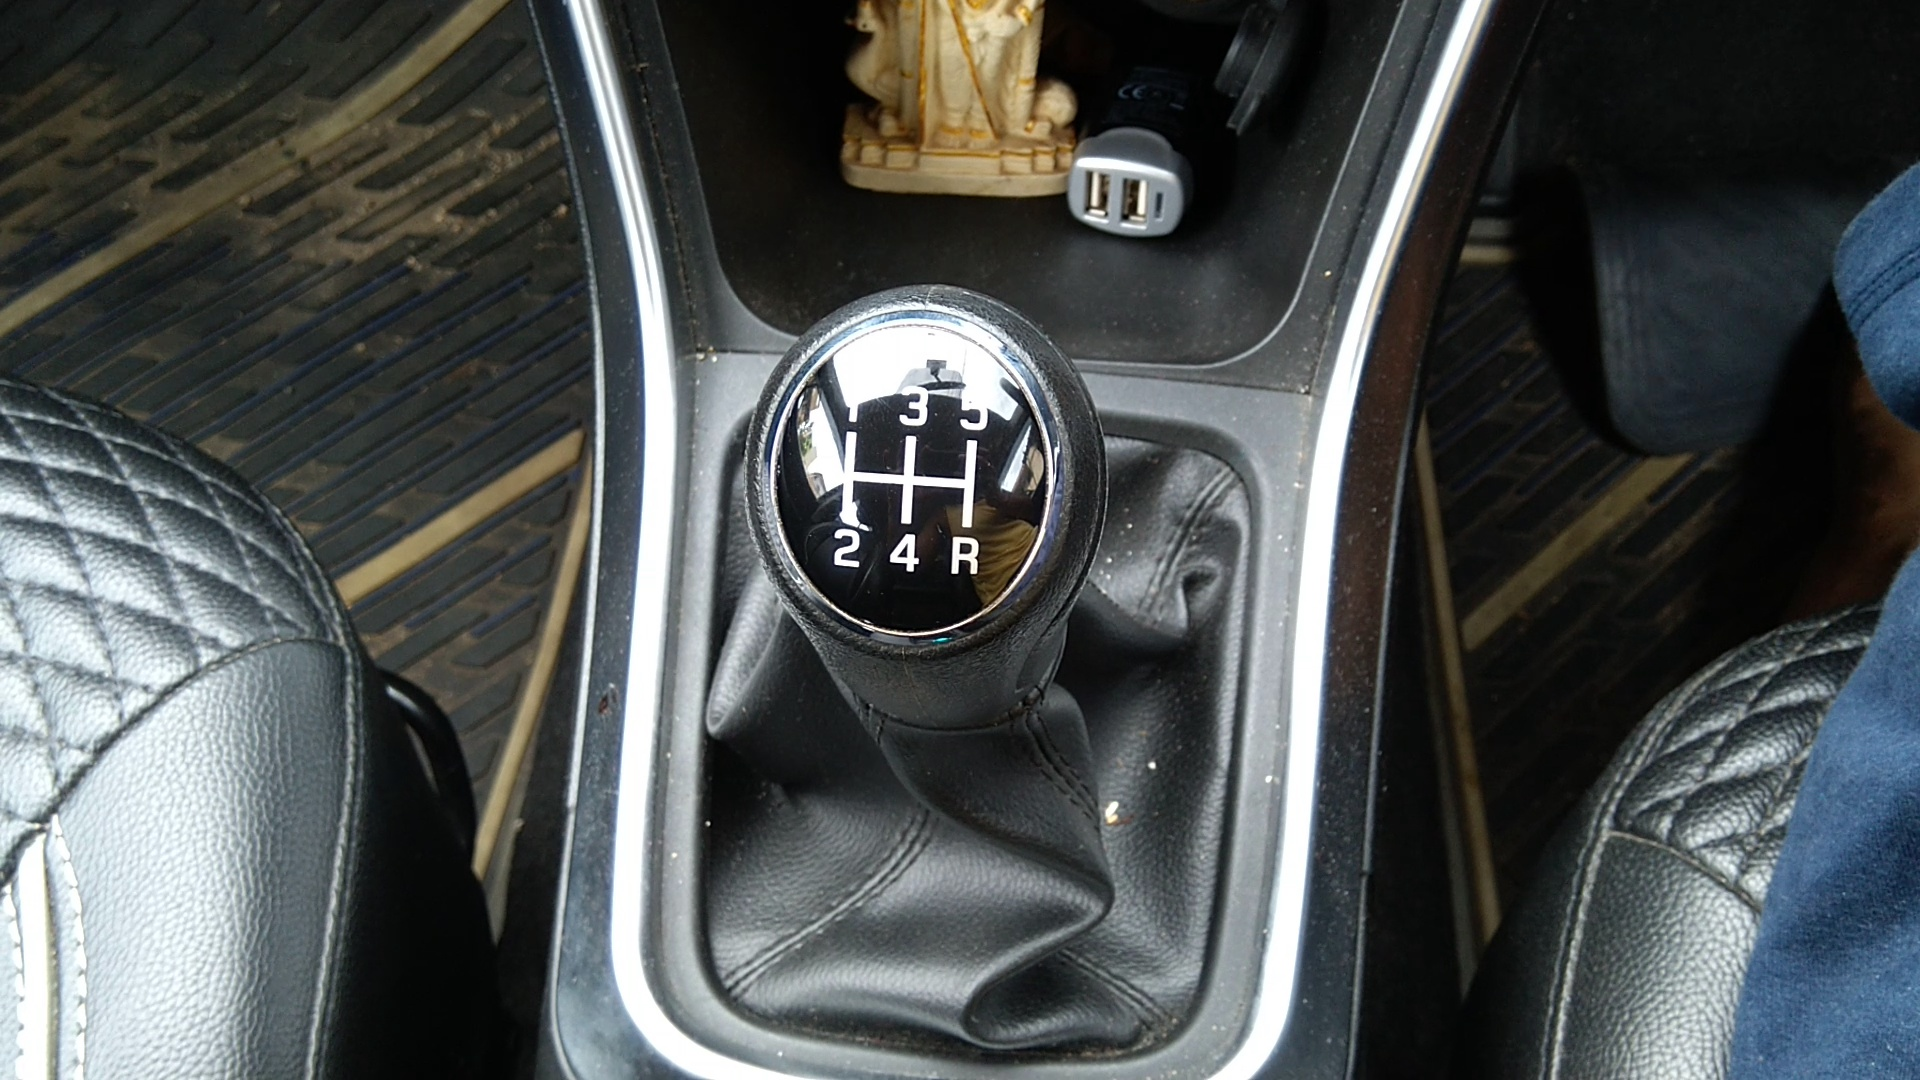manual_gear: (746, 285, 1101, 762)
